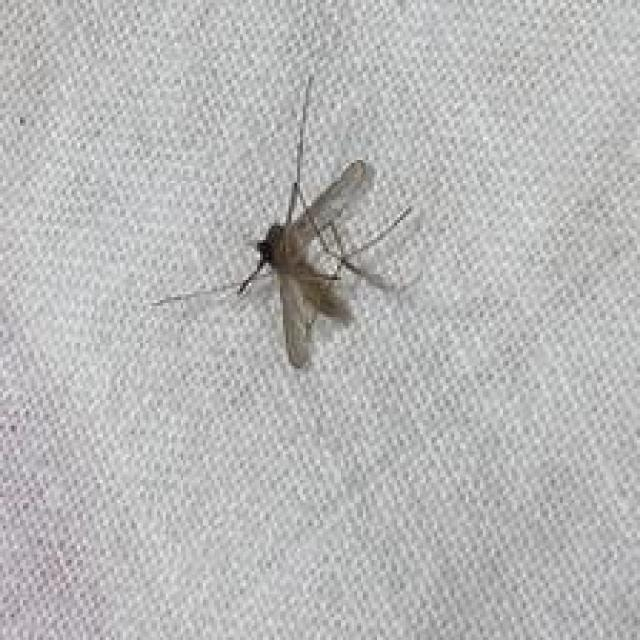Culex: (151, 75, 423, 372)
